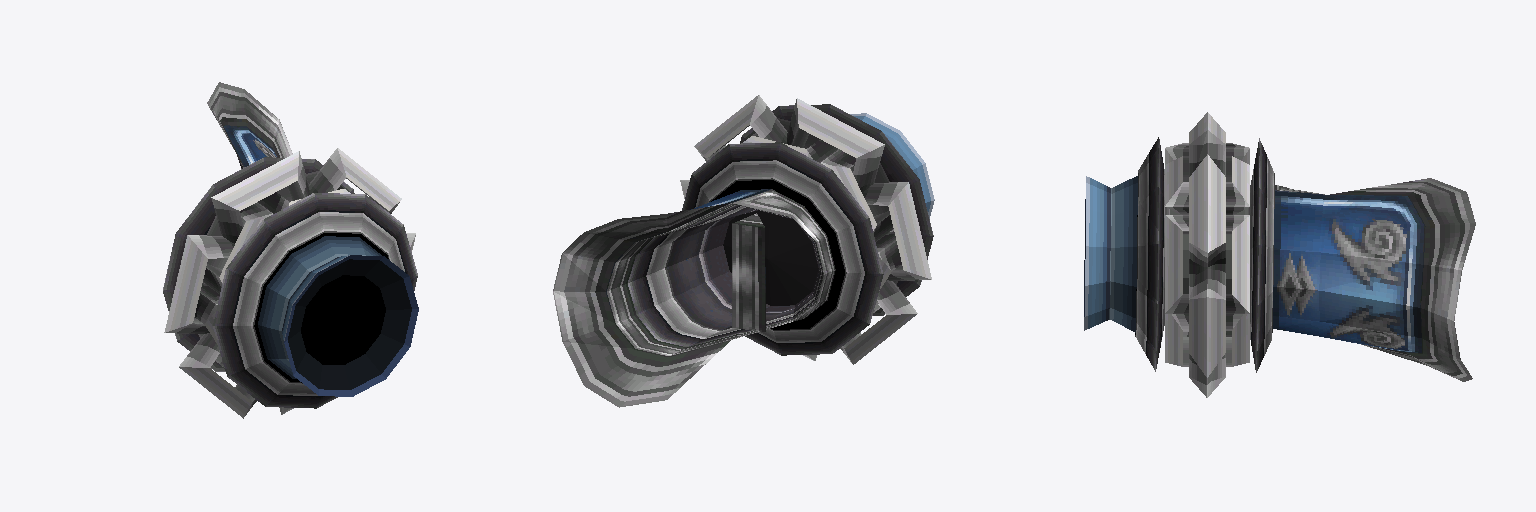
The picture shows the model from 3 angles: view 1: azimuth 30°, elevation 25°; view 2: azimuth 150°, elevation 25°; view 3: azimuth 270°, elevation 25°; orthographic projection.
Visible parts, largest first — view 1: polygon0, polygon1; view 2: polygon0, polygon1; view 3: polygon0, polygon1.
Boxes of the visible parts, x1,y1,x2,y2 form: polygon0: [163, 82, 418, 408]; polygon1: [164, 148, 415, 418]; polygon0: [553, 104, 934, 407]; polygon1: [680, 95, 931, 364]; polygon0: [1084, 137, 1475, 381]; polygon1: [1165, 112, 1249, 397].
Size of the model in its own units: 3.27 by 3.17 by 4.34.
1 materials, 1 textured.